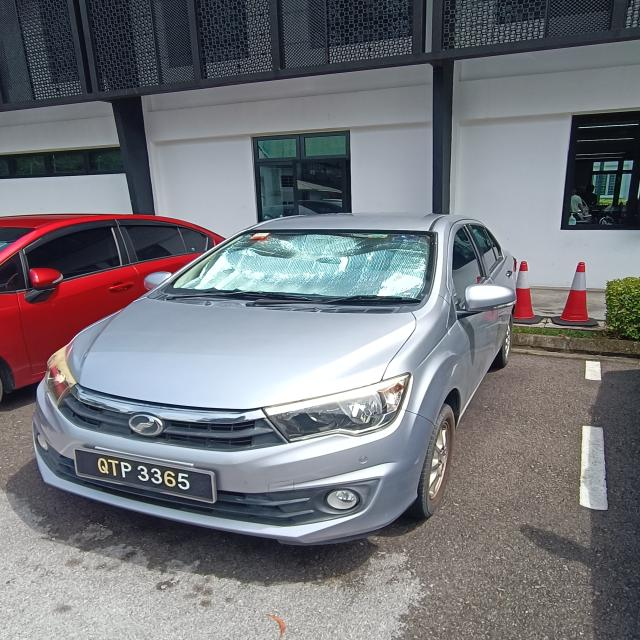PeroduaBezza: (30, 210, 519, 546)
